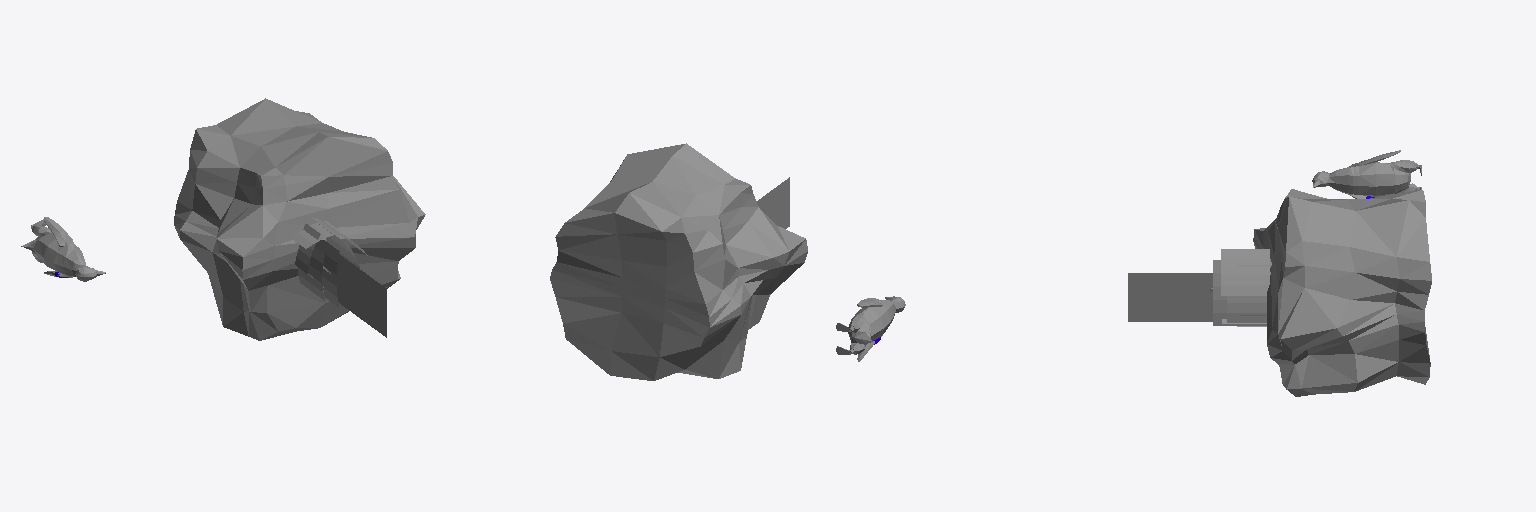
File: grape_kun_2.obj
3 views of the same model, side by side, from view 1: azimuth 30°, elevation 25°; view 2: azimuth 150°, elevation 25°; view 3: azimuth 270°, elevation 25° (orthographic).
Parts seen in each view (by area): view 1: Box004_Mesh.001, Box003_Mesh, Plane001_Mesh.002, Plane008_Mesh.010, Plane002_Mesh.004; view 2: Box004_Mesh.001, Box003_Mesh, Plane001_Mesh.002; view 3: Box004_Mesh.001, Plane001_Mesh.002, Box003_Mesh, Plane006_Mesh.008, Plane009_Mesh.011, Plane010_Mesh.012.
Boxes of the visible parts, box(x1,y1,x2,y2) form: Box004_Mesh.001: box(174, 98, 425, 340); Box003_Mesh: box(21, 217, 105, 281); Plane001_Mesh.002: box(336, 254, 386, 337); Plane008_Mesh.010: box(315, 240, 339, 307); Plane002_Mesh.004: box(298, 247, 324, 300); Box004_Mesh.001: box(550, 143, 807, 380); Box003_Mesh: box(836, 296, 905, 361); Plane001_Mesh.002: box(757, 177, 789, 228); Box004_Mesh.001: box(1253, 189, 1431, 396); Plane001_Mesh.002: box(1128, 273, 1212, 321); Box003_Mesh: box(1312, 150, 1421, 198); Plane006_Mesh.008: box(1221, 249, 1269, 295); Plane009_Mesh.011: box(1227, 272, 1270, 322); Plane010_Mesh.012: box(1213, 260, 1270, 325).
Size of the model in its own units: 2.05 by 1.12 by 1.59.